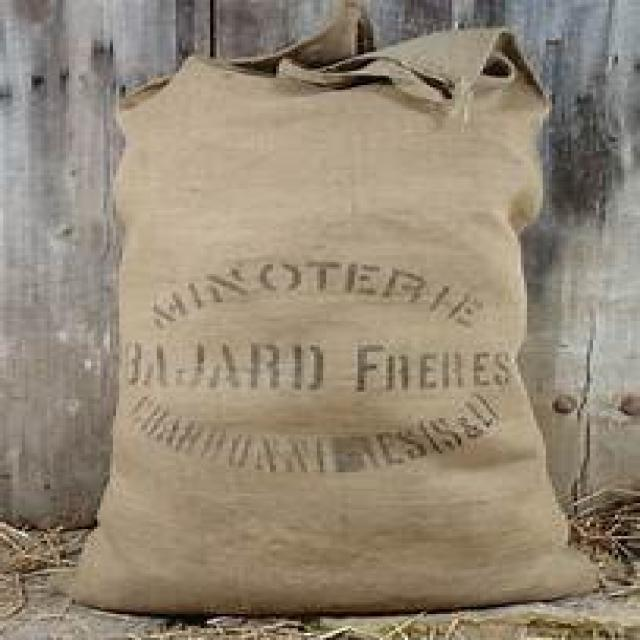gunny_bag: (31, 6, 607, 622)
